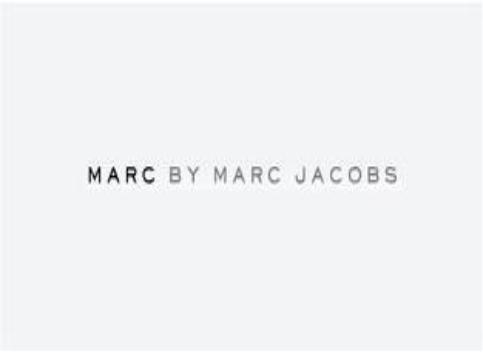MARC-JACOBS: (61, 148, 416, 202)
